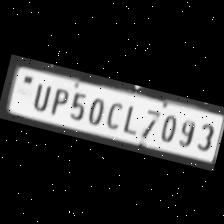0: (82, 90, 108, 126), (154, 108, 180, 142)
3: (192, 116, 218, 152)
5: (63, 86, 89, 120)
7: (136, 102, 162, 140)
9: (173, 112, 200, 147)
C: (101, 95, 125, 129)
L: (118, 98, 143, 134)
P: (45, 83, 70, 116)
U: (26, 77, 54, 111)
